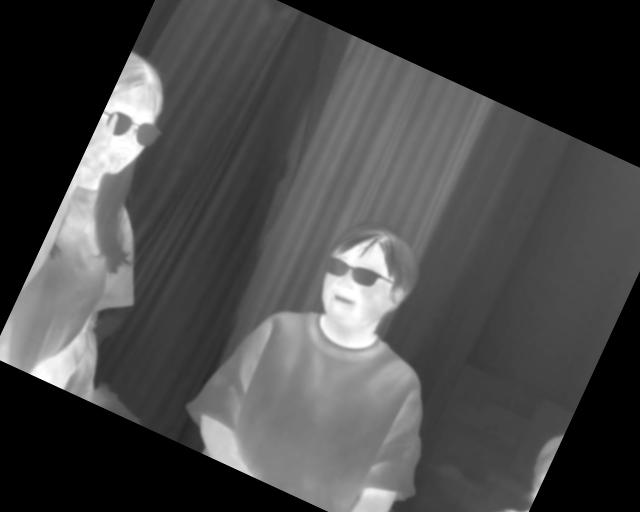face: (304, 208, 433, 347), (80, 50, 182, 184)
